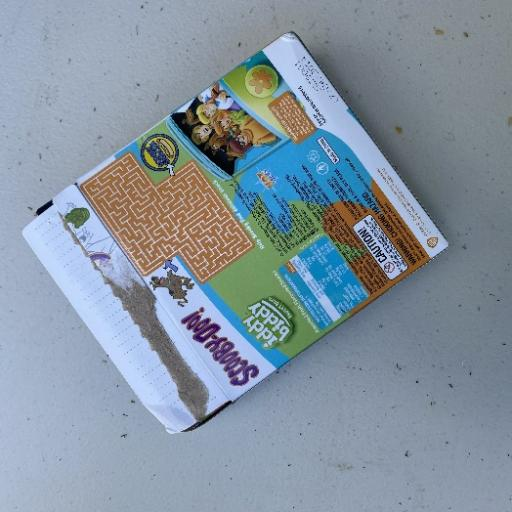Cardboard: (20, 30, 450, 435)
